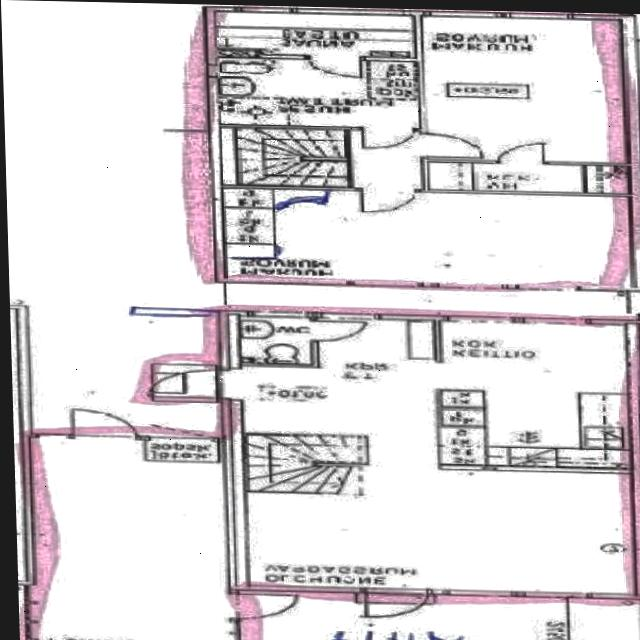room: (29, 430, 229, 640), (221, 188, 632, 287), (419, 17, 629, 163), (215, 58, 419, 128), (214, 12, 415, 57), (428, 162, 627, 194), (239, 317, 311, 364)
